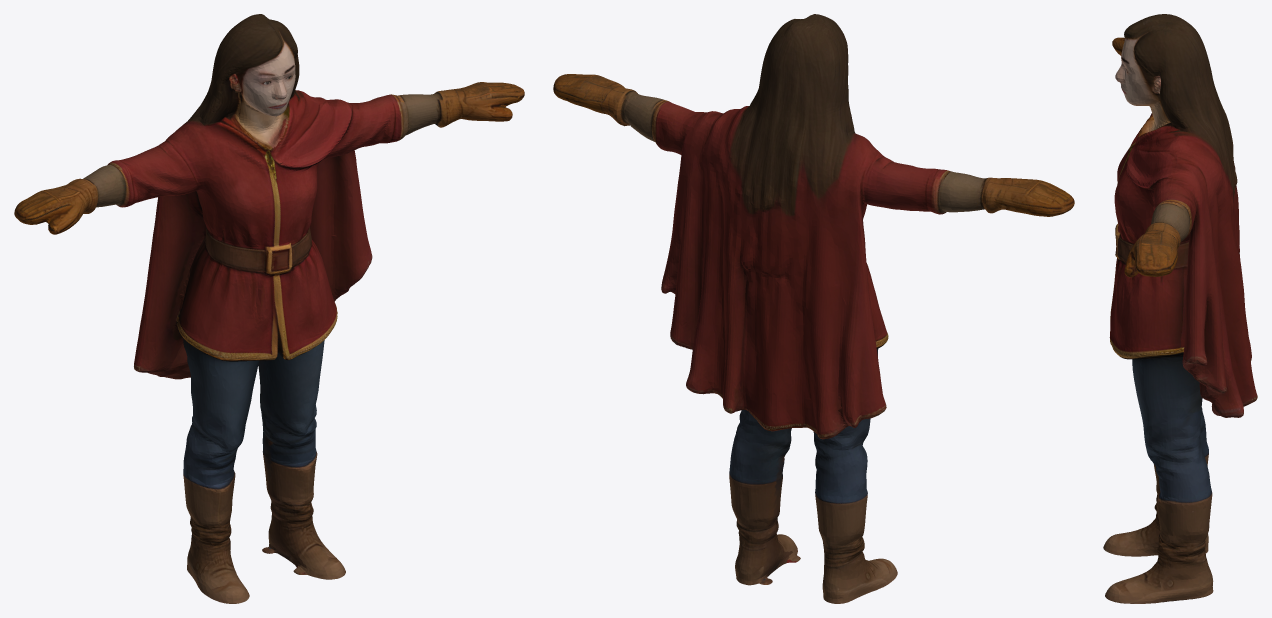
Rendered from vesna.glb.
The picture shows the model from 3 angles, left to right: view 1: azimuth 30°, elevation 25°; view 2: azimuth 150°, elevation 25°; view 3: azimuth 270°, elevation 25°; orthographic projection.
Visible parts, largest first — view 1: textured_mesh.obj; view 2: textured_mesh.obj; view 3: textured_mesh.obj.
Part boxes in pixels (left/top/right/bottom): textured_mesh.obj: left=14, top=14, right=524, bottom=603; textured_mesh.obj: left=553, top=14, right=1074, bottom=603; textured_mesh.obj: left=1103, top=14, right=1257, bottom=603.
Bounding box in the file's own units: 1.92 × 1.99 × 0.5014.
Materials: 1 (1 with a texture image).
